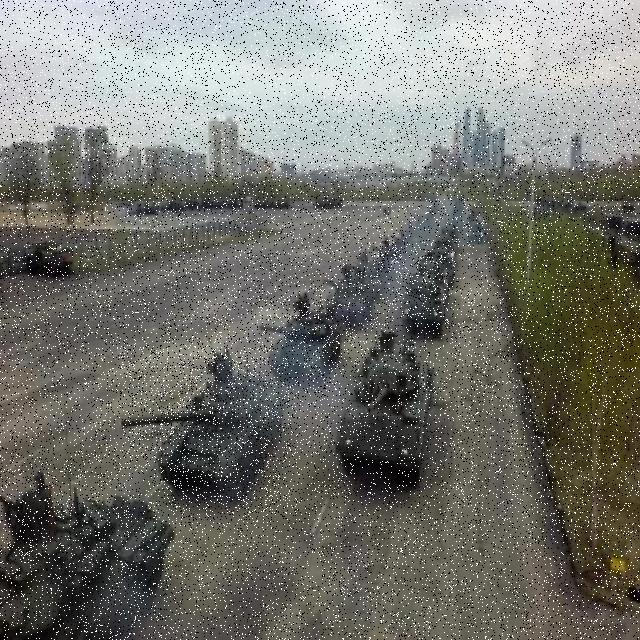MIL_MBT: (0, 459, 172, 637), (123, 346, 290, 517), (337, 338, 437, 497), (259, 293, 344, 397), (322, 267, 378, 328), (403, 274, 447, 337), (420, 255, 449, 288), (369, 242, 397, 271)
